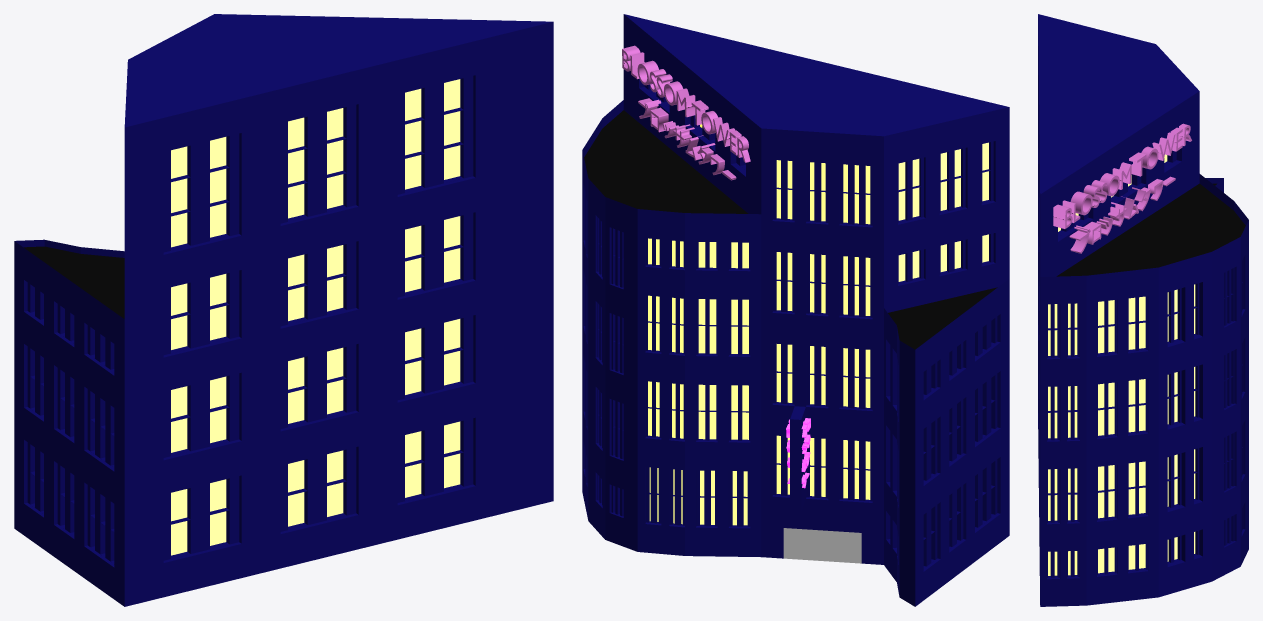
File: blossom_tower.fbx
3 views of the same model, side by side, from view 1: azimuth 30°, elevation 25°; view 2: azimuth 150°, elevation 25°; view 3: azimuth 270°, elevation 25° (orthographic). The views are drawn at different scales.
Parts seen in each view (by area): view 1: blossom_tower; view 2: blossom_tower; view 3: blossom_tower.
Boxes of the visible parts, <box> form: blossom_tower: <box>14,14,553,606</box>; blossom_tower: <box>582,14,1009,606</box>; blossom_tower: <box>1038,14,1248,606</box>.
Size of the model in its own units: 945 by 1000 by 463.
